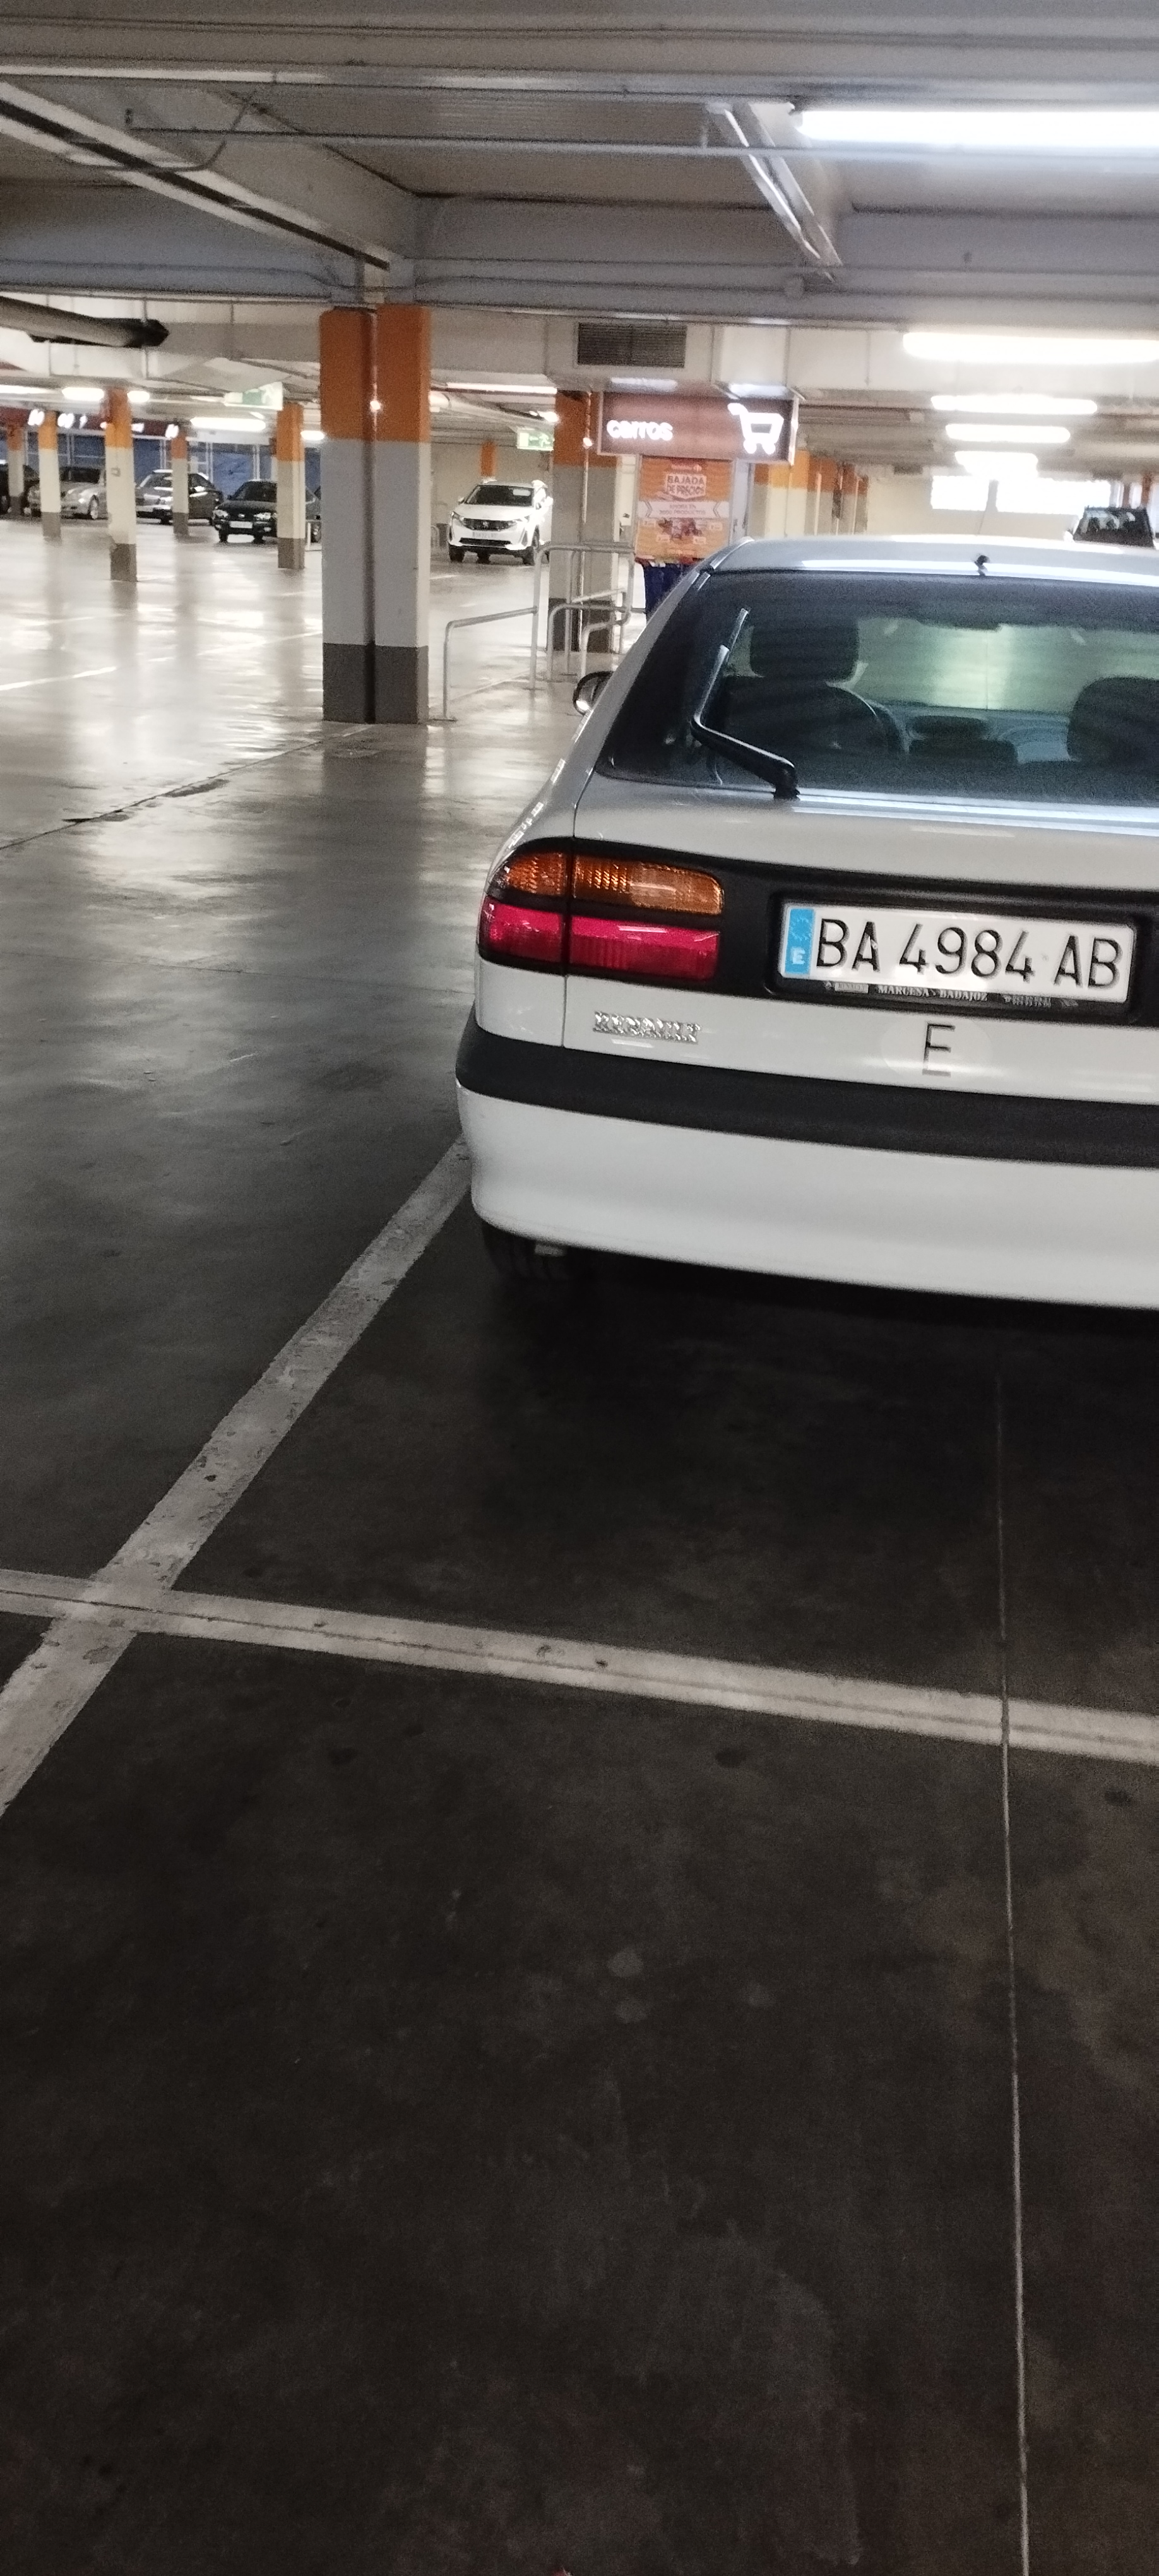Car: (460, 535, 1158, 1296)
Plate: (782, 898, 1134, 989)
